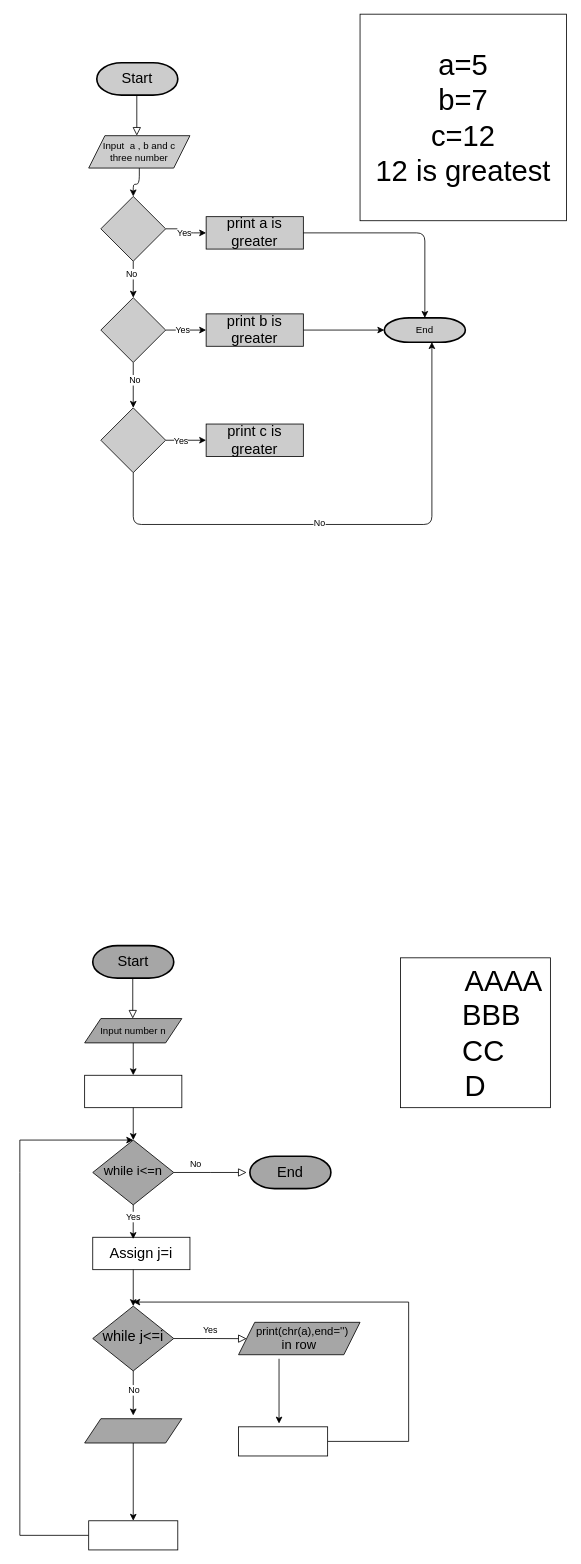
The diagram is 581 pixels wide and 1564 high, and some of its shapes have lost their labels. Each missing label, with the box of its shape:
a>=b && a>=c: (100, 196, 166, 261)
Assign i=1 a=65: (84, 1074, 182, 1108)
b>=a && b>=c: (100, 297, 166, 362)
c>=b && c>=a: (100, 407, 166, 473)
i+=1: (88, 1520, 178, 1550)
j+=1: (238, 1426, 328, 1456)
Print() in next row: (84, 1418, 182, 1443)
